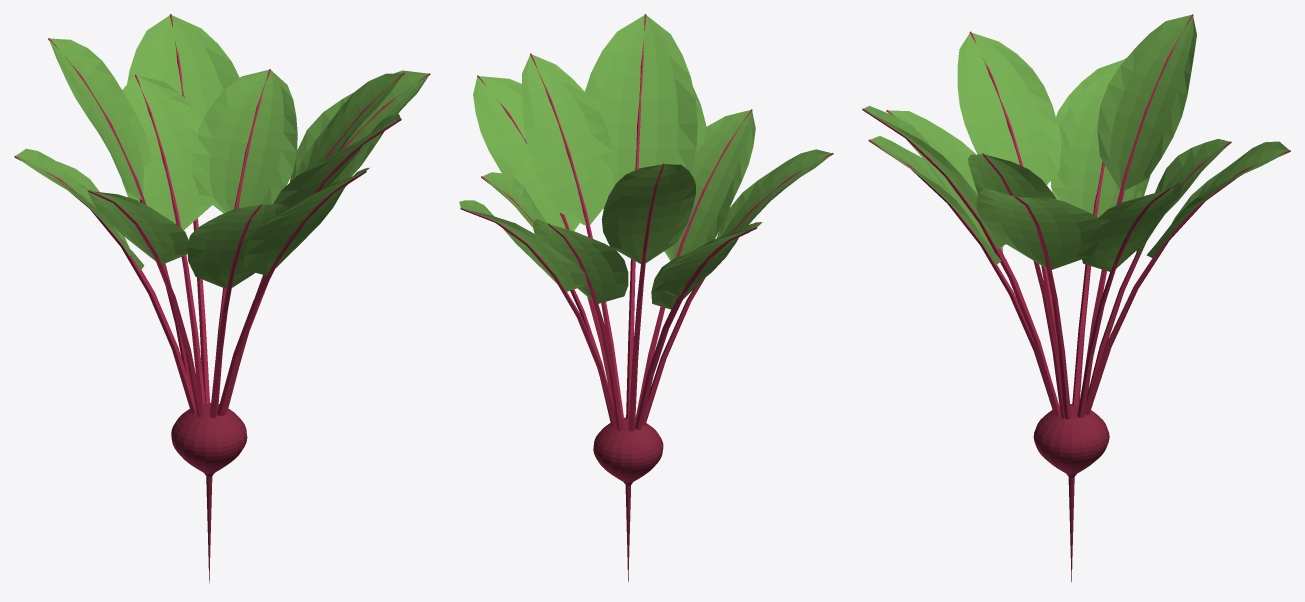
Rendered from beetroot_harvest_v09.glb.
3 views of the same model, side by side, from view 1: azimuth 30°, elevation 25°; view 2: azimuth 150°, elevation 25°; view 3: azimuth 270°, elevation 25° (orthographic). The views are drawn at different scales.
Parts seen in each view (by area): view 1: plant; view 2: plant; view 3: plant.
Boxes of the visible parts, bbox=[...] form: plant: bbox=[14, 14, 430, 583]; plant: bbox=[459, 14, 833, 582]; plant: bbox=[862, 14, 1290, 582].
Size of the model in its own units: 0.3368 by 0.4672 by 0.3453.
1 material, 1 textured.
